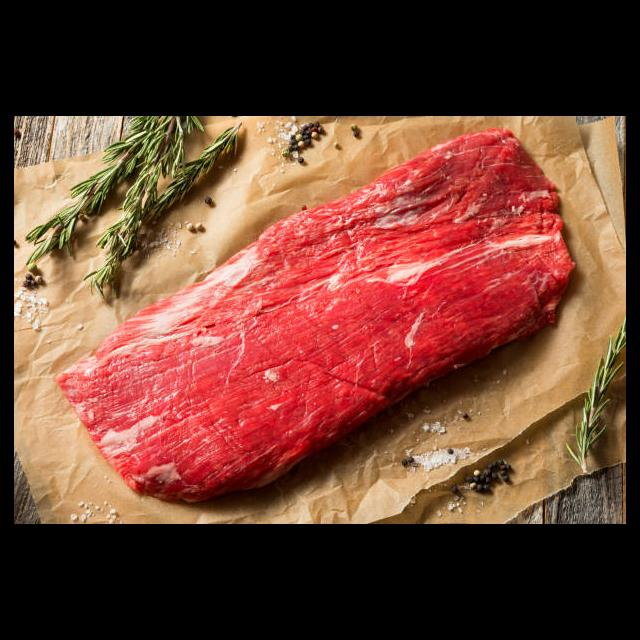beef: (53, 126, 576, 505)
